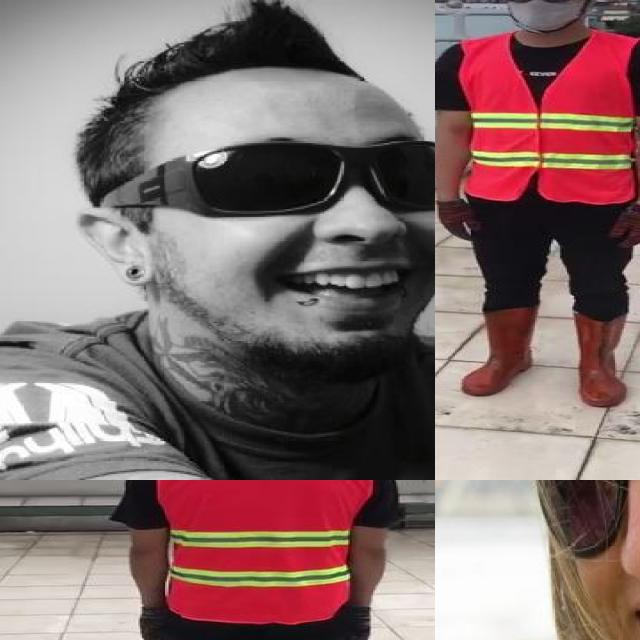No_Ear-Protection: (68, 195, 160, 297)
boots: (462, 310, 540, 395), (572, 313, 630, 409)
face_mask: (502, 0, 591, 30)
face_nomask: (188, 136, 435, 323), (528, 480, 640, 640)
glasses: (101, 143, 435, 211), (535, 480, 640, 559), (502, 0, 576, 5)
hand_glove: (435, 198, 483, 239), (134, 606, 177, 640), (609, 209, 640, 251), (344, 606, 374, 640)
head_nohelmet: (94, 29, 378, 113)
person: (435, 0, 640, 421), (112, 480, 404, 640)
vest: (156, 480, 367, 623), (460, 33, 634, 205)
